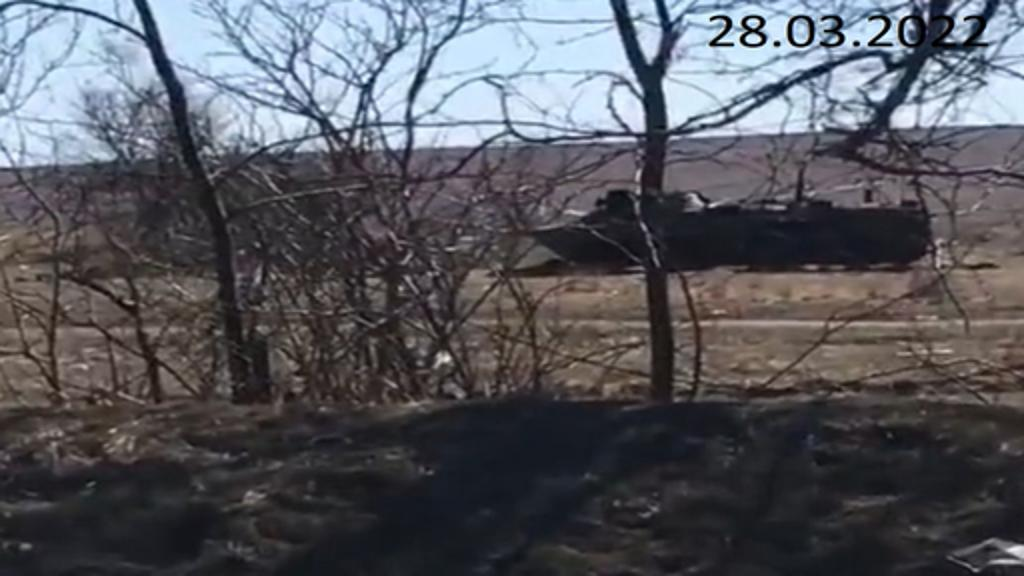APC-IFV: (526, 164, 938, 282)
